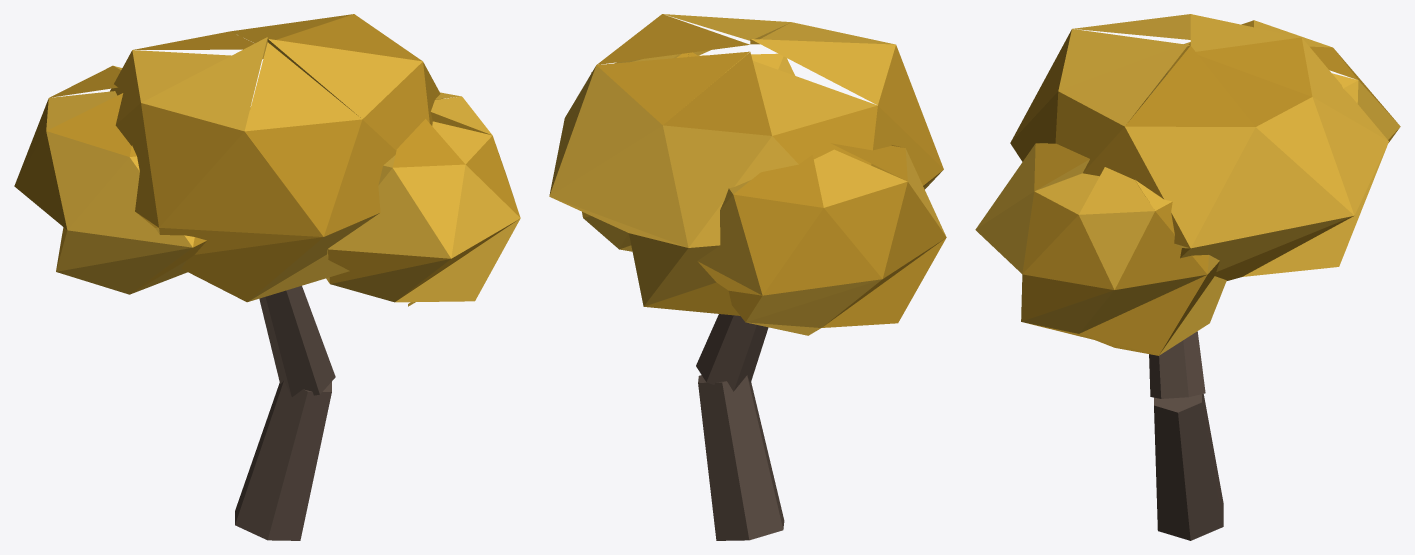
Rendered from autumn_yellow.glb.
3 views of the same model, side by side, from view 1: azimuth 30°, elevation 25°; view 2: azimuth 150°, elevation 25°; view 3: azimuth 270°, elevation 25° (orthographic). The views are drawn at different scales.
Visible parts, largest first — view 1: autumn_yellow2; view 2: autumn_yellow2; view 3: autumn_yellow2.
Boxes of the visible parts, <box> form: autumn_yellow2: <box>14,14,520,540</box>; autumn_yellow2: <box>549,14,946,540</box>; autumn_yellow2: <box>975,14,1400,540</box>.
Size of the model in its own units: 4.19 by 5.01 by 3.98.
